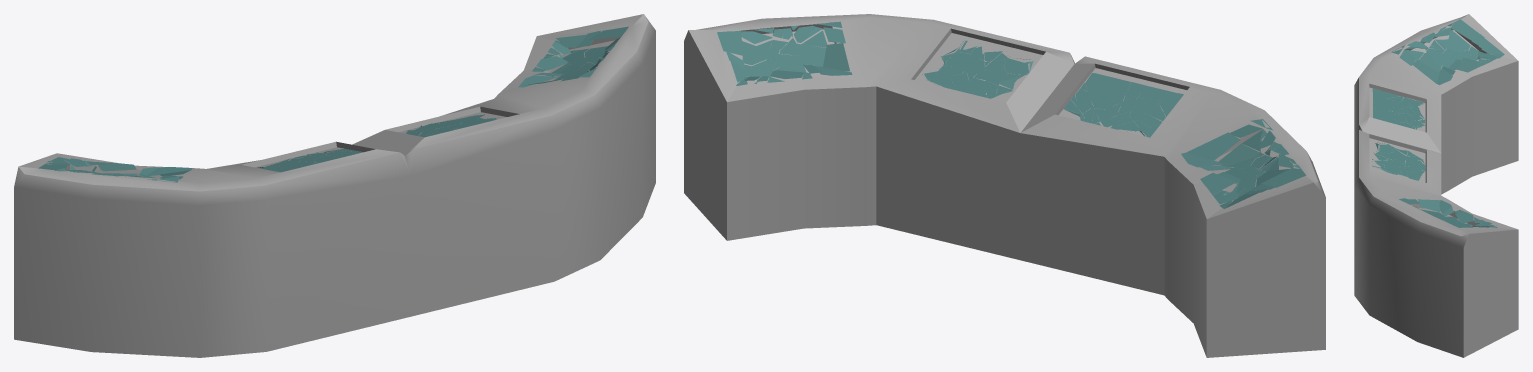
The model's file is terminal_1_broken.fbx.
The picture shows the model from 3 angles, left to right: view 1: azimuth 30°, elevation 25°; view 2: azimuth 150°, elevation 25°; view 3: azimuth 270°, elevation 25°; orthographic projection. The views are drawn at different scales.
Visible parts, largest first — view 1: terminal1_broken; view 2: terminal1_broken; view 3: terminal1_broken.
Part boxes in pixels (box(x1,y1,x2,y2)): terminal1_broken: box(14, 14, 655, 357); terminal1_broken: box(684, 14, 1325, 357); terminal1_broken: box(1354, 14, 1518, 357).
Size of the model in its own units: 4.03 by 1.01 by 1.24.
